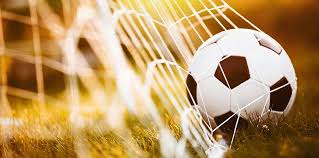football ball: (183, 28, 302, 135)
